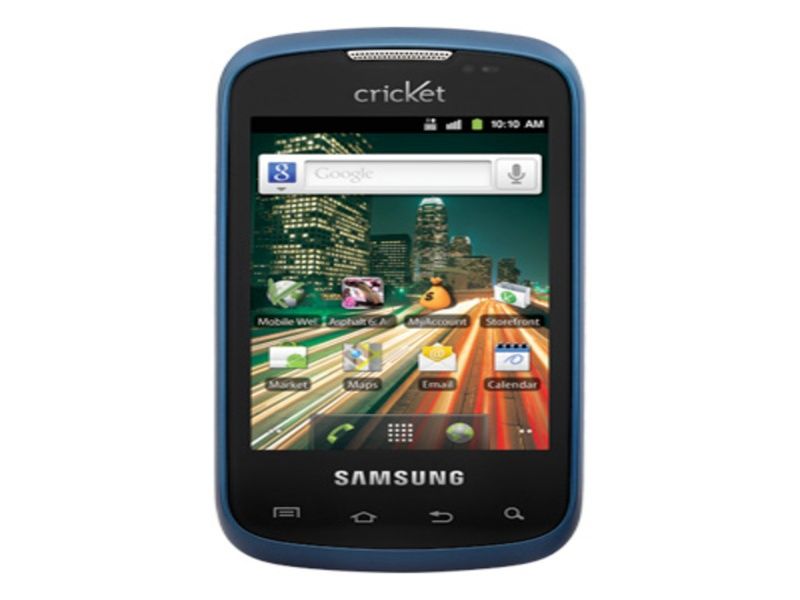cellphone: (205, 25, 589, 580)
